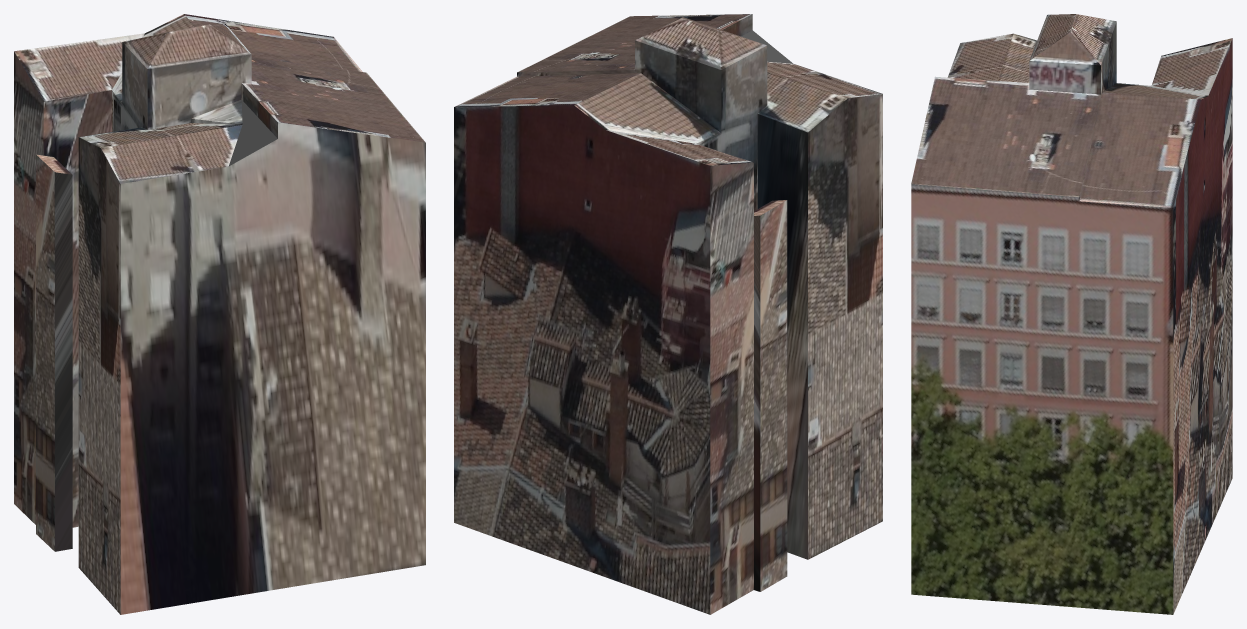
The picture shows the model from 3 angles, left to right: view 1: azimuth 30°, elevation 25°; view 2: azimuth 150°, elevation 25°; view 3: azimuth 270°, elevation 25°; orthographic projection. The views are drawn at different scales.
Visible parts, largest first — view 1: Z_UP; view 2: Z_UP; view 3: Z_UP.
Boxes of the visible parts, x1=… form: Z_UP: x1=14, y1=14, x2=425, y2=614; Z_UP: x1=454, y1=14, x2=882, y2=614; Z_UP: x1=911, y1=14, x2=1232, y2=614.
Size of the model in its own units: 20.34 by 30.91 by 18.06.
Materials: 2 (1 with a texture image).
